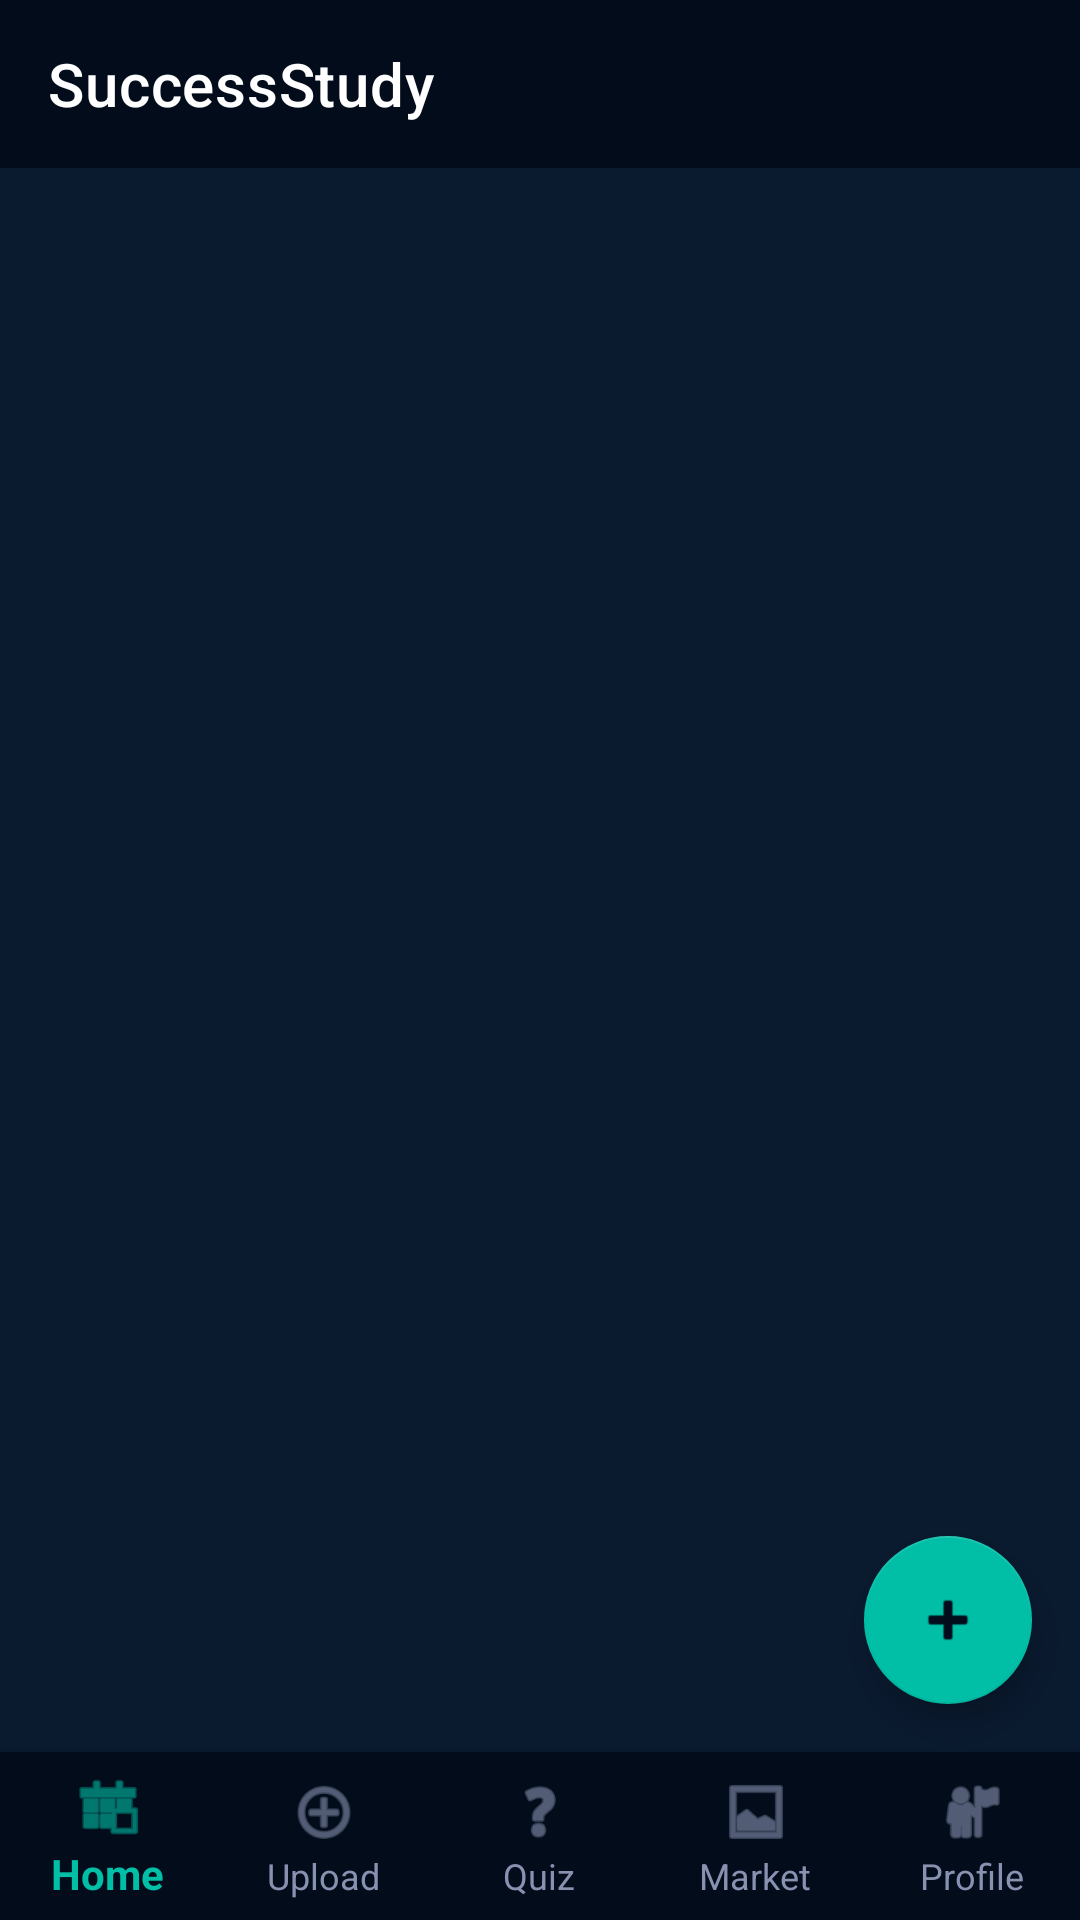

Named icons in this screenshot (1080 × 1920) and their bounding boxes, (x1, y1, x2, y2):
Quick Action: (864, 1536, 1032, 1704)
